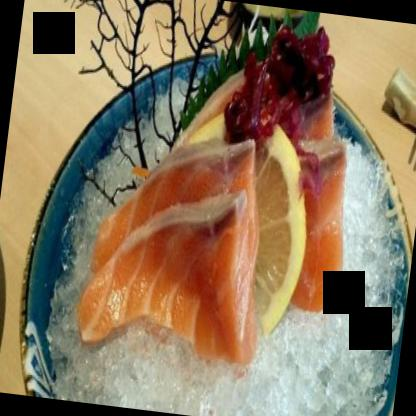salmon: (74, 182, 268, 374), (91, 123, 268, 294), (277, 130, 358, 314)
